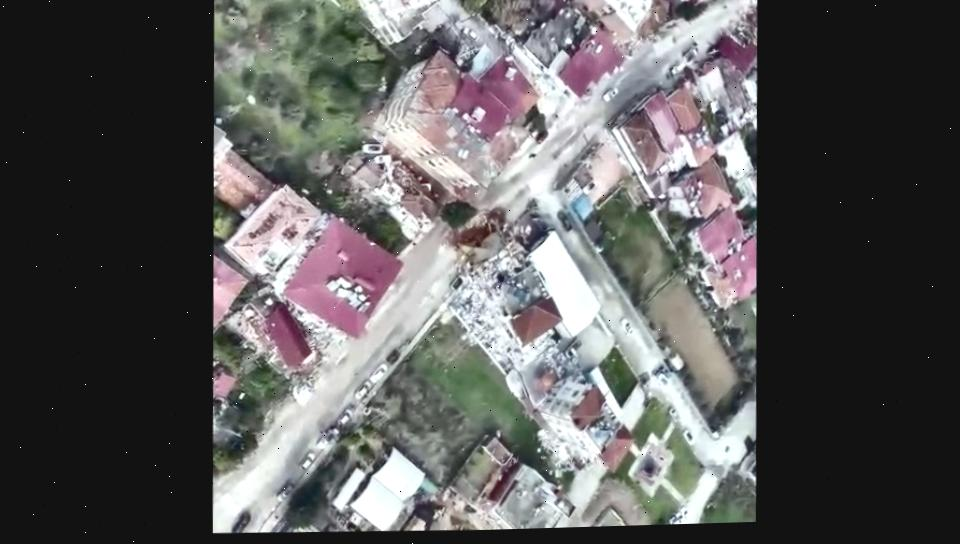kapali: (404, 178, 523, 301), (680, 0, 757, 65)
